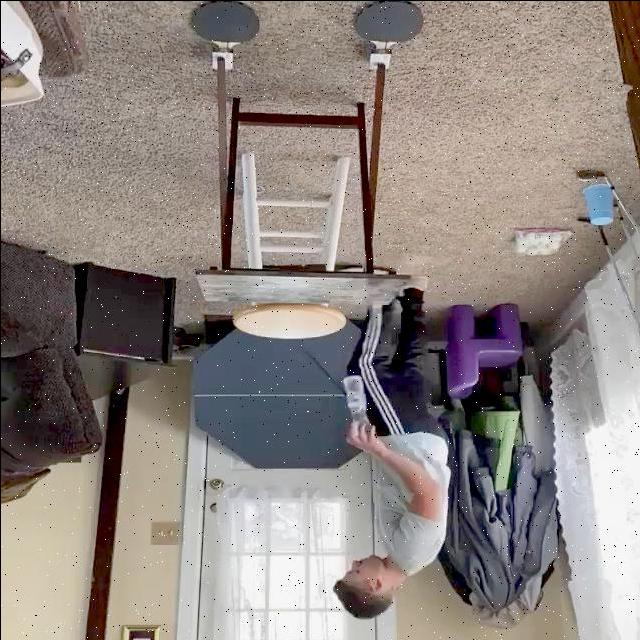ClubHandle: (295, 337, 346, 393)
